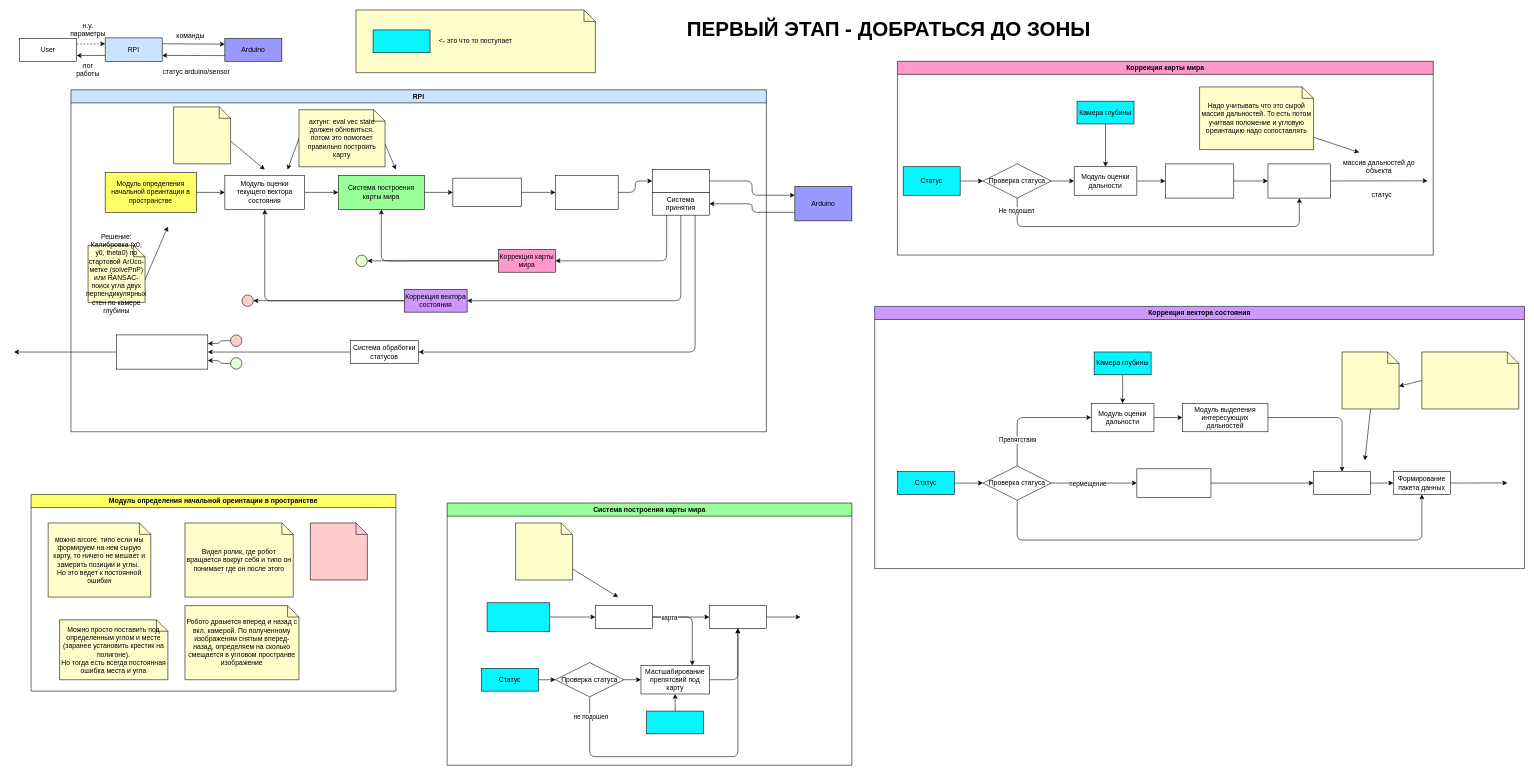
The diagram is 1534 pixels wide and 775 high, and some of its shapes have lost their labels. Each missing label, with the centre of its shape:
"Вектор состояния робота" goes at pixel 518 616.
"ДАННЫЕ" goes at pixel 401 41.
"Делается предположение, что карта уже была заложена ндо этого этапа" goes at pixel 544 551.
"Модуль выдления геометрических границ" goes at pixel 1199 180.
"Модуль расчета перемещения по тикам" goes at pixel 1173 482.
"Модуль формирования пакета данных для user" goes at pixel 162 351.
"Обновление карты" goes at pixel 737 616.
"Обновление положения на карте" goes at pixel 623 616.
"Подумать что есть формирование коррекций" goes at pixel 1370 380.
"Система отправки" goes at pixel 680 180.
"Система построения маршрута" goes at pixel 486 192.
"Система формирования команд" goes at pixel 586 192.
"Сырые прептствия" goes at pixel 675 722.
"тут проблема больше с определением угла" goes at pixel 338 551.
"Фильтр калмана или любой другой фильтр" goes at pixel 202 135.
"Формирование коррекций" goes at pixel 1342 482.
"Формирования пакета данных" goes at pixel 1299 180.
"Я под коррекциями имел ввиду доп данные, что помогут определить лучше ореинтацию" goes at pixel 1470 380.
